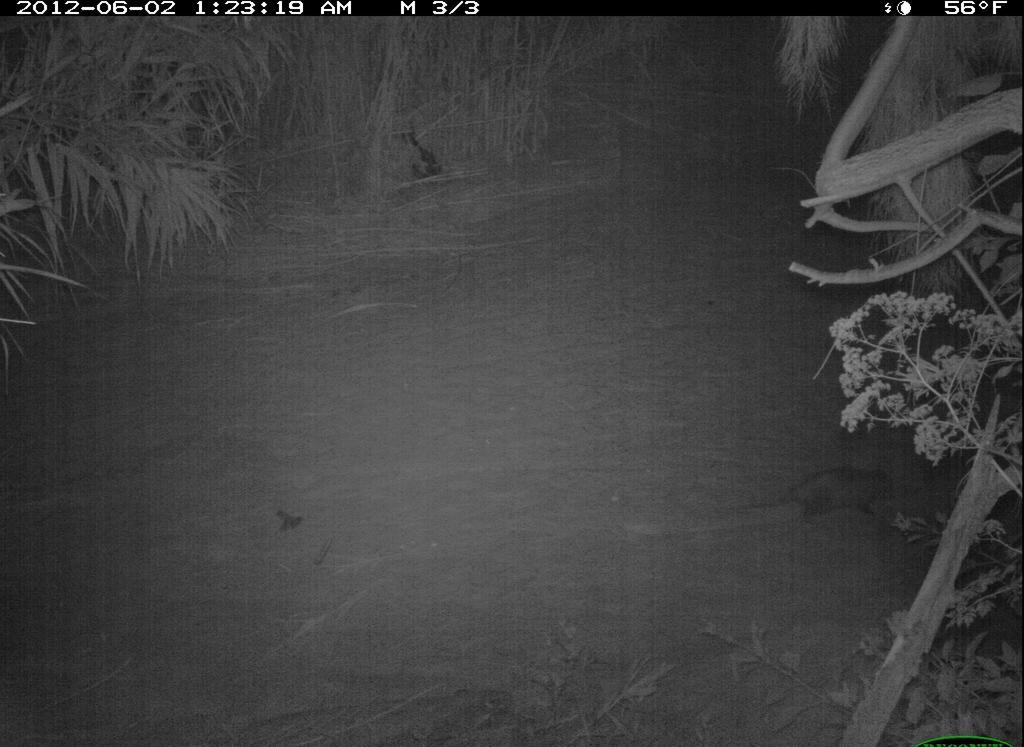opossum: (742, 459, 909, 536)
